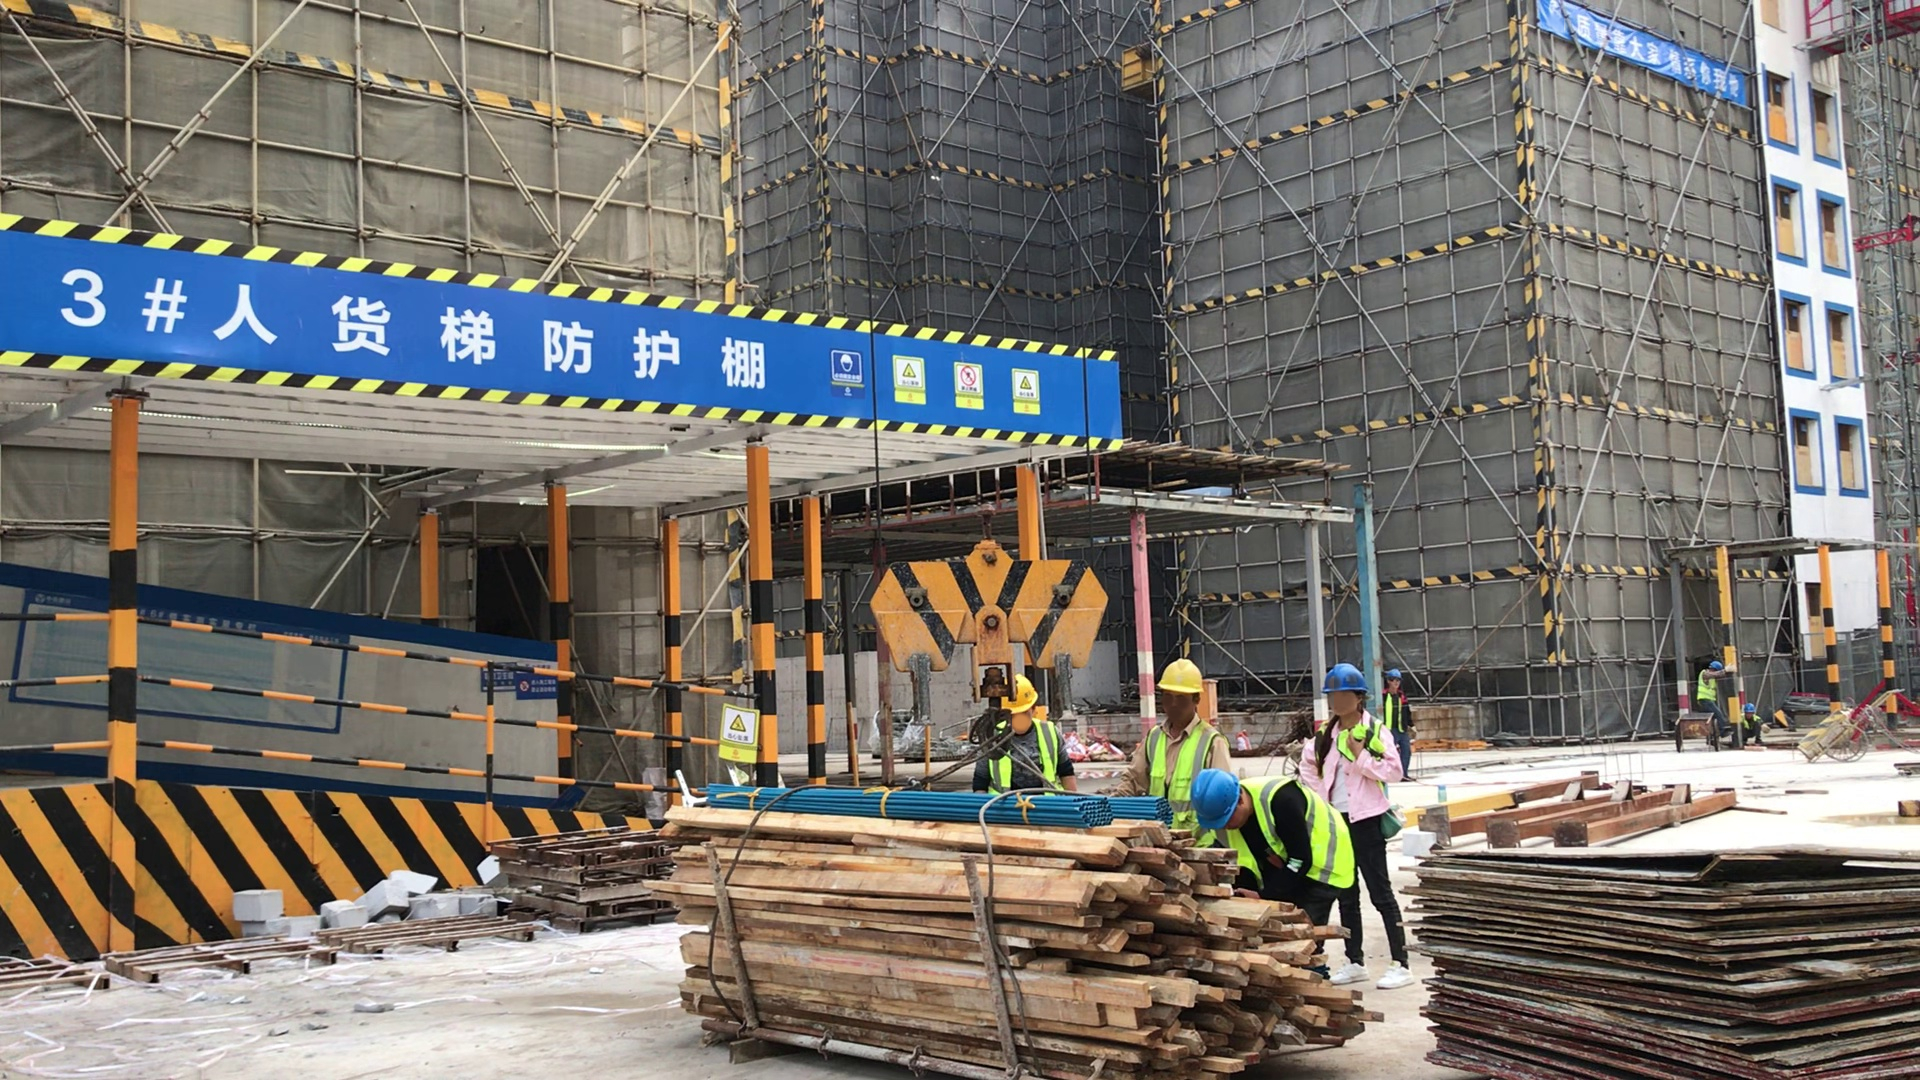helmet: (1191, 769, 1239, 826), (1157, 659, 1203, 696), (999, 676, 1043, 713), (1322, 661, 1368, 696), (1386, 667, 1403, 680), (1709, 661, 1723, 672), (1744, 703, 1755, 713)
person: (1301, 660, 1416, 971), (1192, 769, 1353, 918), (1123, 663, 1235, 799), (978, 672, 1070, 795), (1383, 670, 1423, 787), (1695, 661, 1727, 727), (1741, 703, 1770, 744)
vest: (1241, 786, 1351, 886), (980, 720, 1068, 790), (1142, 718, 1212, 792), (1698, 669, 1716, 702)
